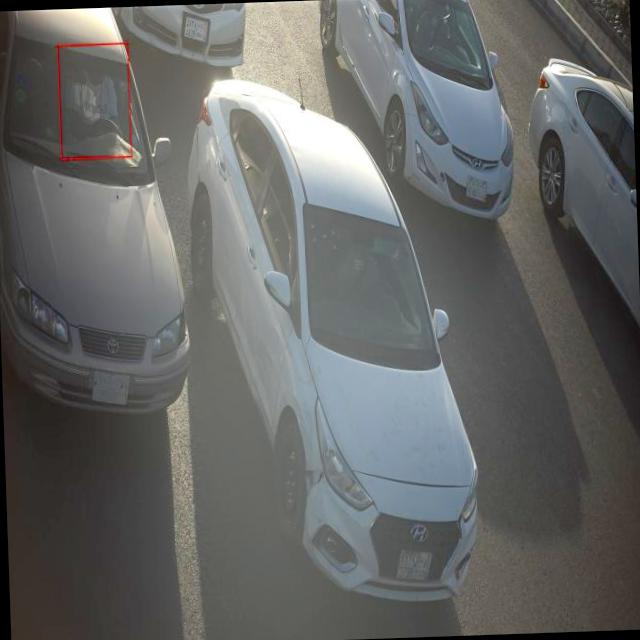person_without_seatbelt: (57, 58, 132, 160)
